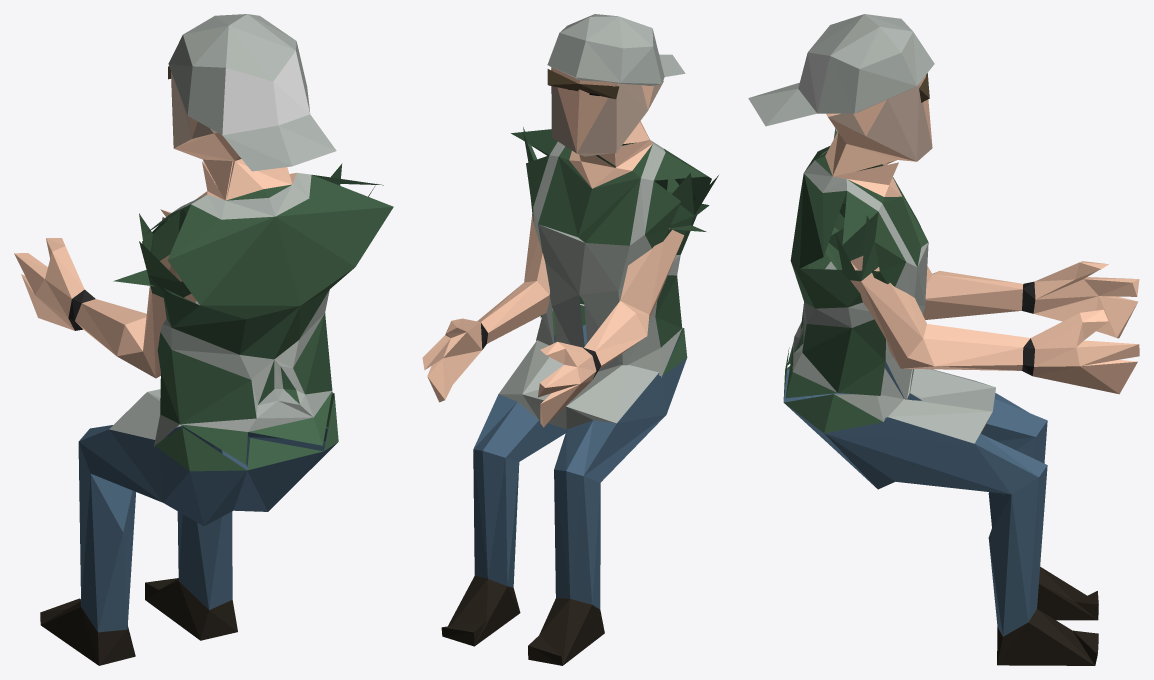
Rendered from Seated_Theminister.obj.
The picture shows the model from 3 angles, left to right: view 1: azimuth 30°, elevation 25°; view 2: azimuth 150°, elevation 25°; view 3: azimuth 270°, elevation 25°; orthographic projection. The views are drawn at different scales.
Parts seen in each view (by area): view 1: Seated_Theminister; view 2: Seated_Theminister; view 3: Seated_Theminister.
Boxes of the visible parts, x1,y1,x2,y2 form: Seated_Theminister: (14,14,393,665); Seated_Theminister: (422,14,718,665); Seated_Theminister: (748,14,1139,665).
Bounding box in the file's own units: 0.5854 × 1.49 × 0.8601.
1 material, 1 textured.
